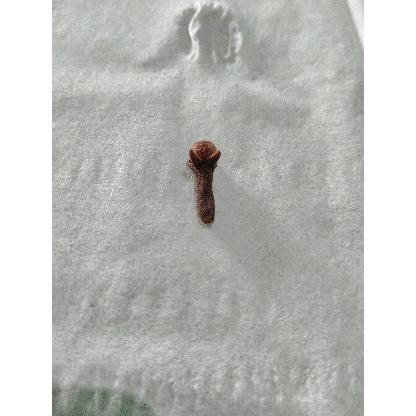baik: (189, 141, 221, 226)
